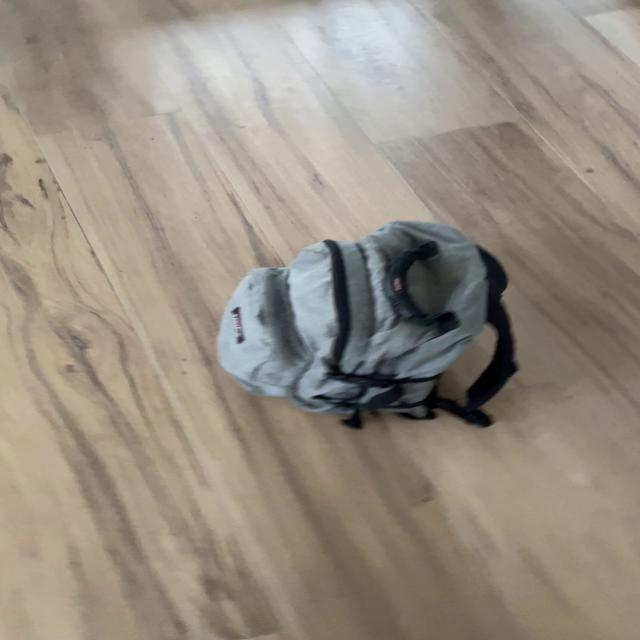backpack: (201, 212, 530, 430)
